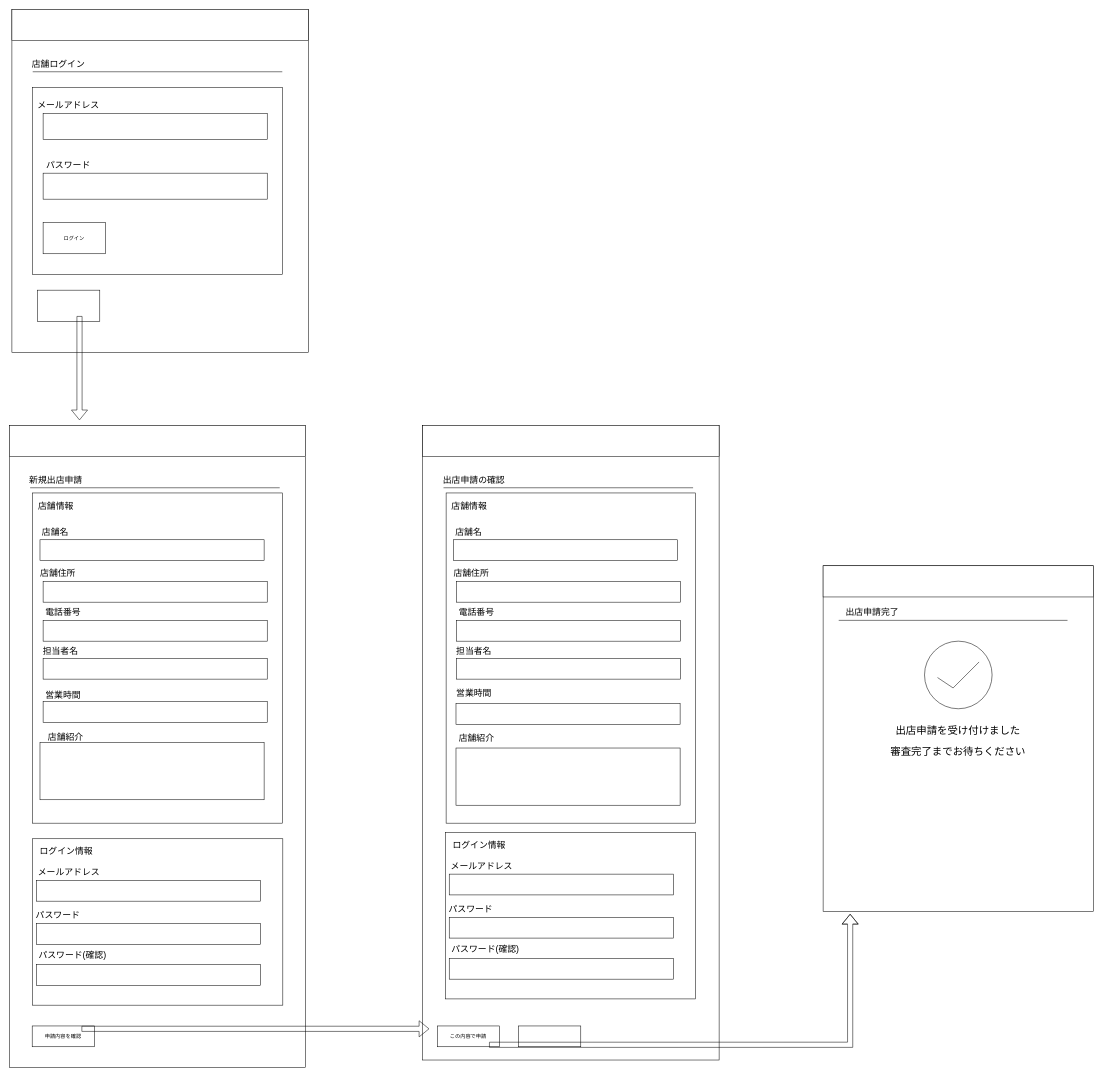
Some shapes in this 1102 by 1076 pixel diagram are drawn without their labels. Each missing label, with the centre of its shape:
"入力に戻る" belongs at pixel 549 1036.
"新規出店の申請" belongs at pixel 68 305.
